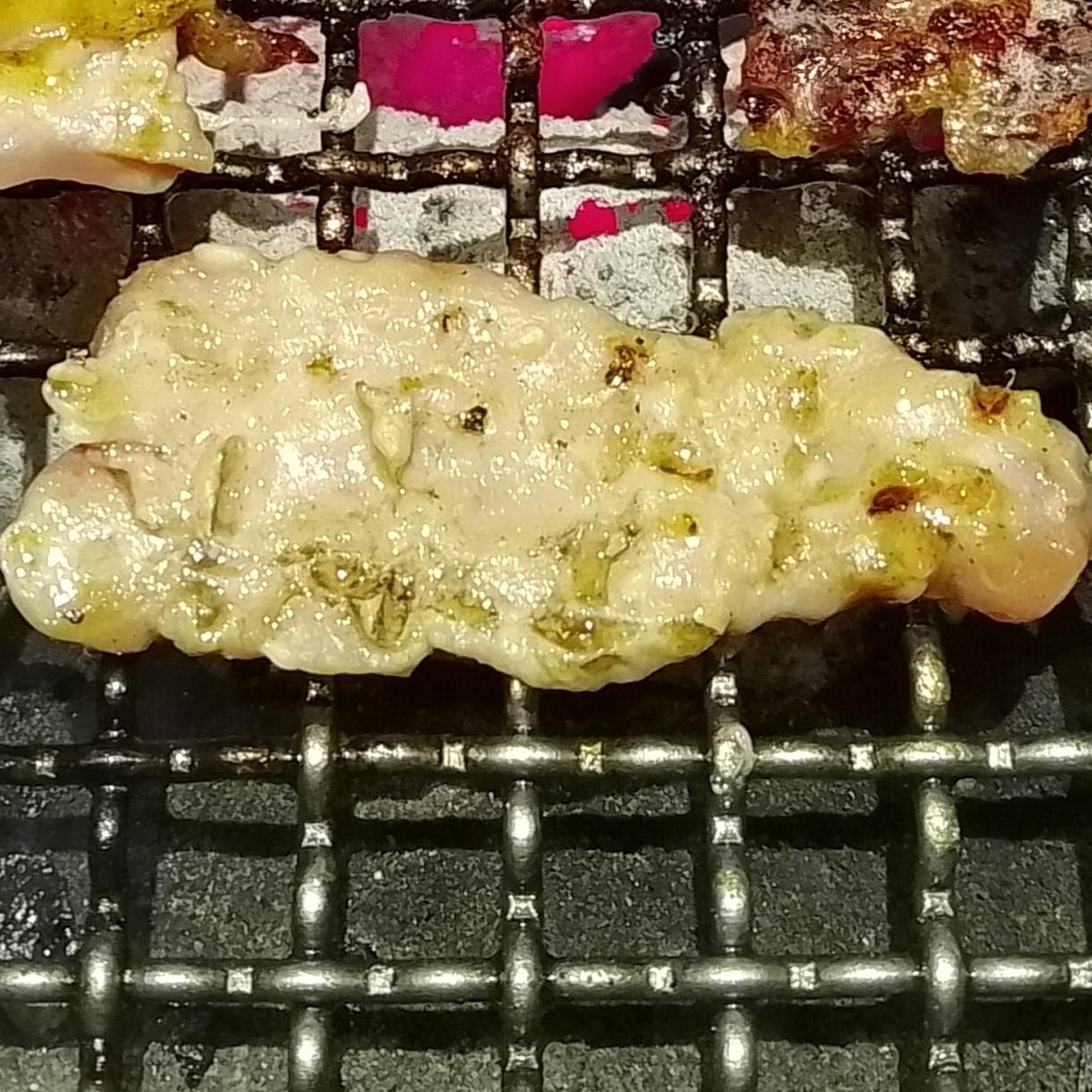Overcooked: (726, 0, 1091, 178)
Well-Cooked: (0, 242, 1091, 678), (0, 0, 273, 197)
